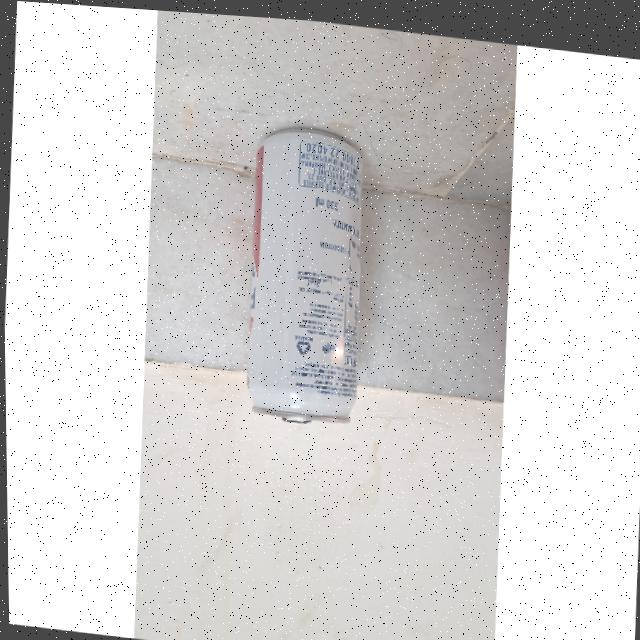Pepsi Retro: (223, 107, 388, 433)
